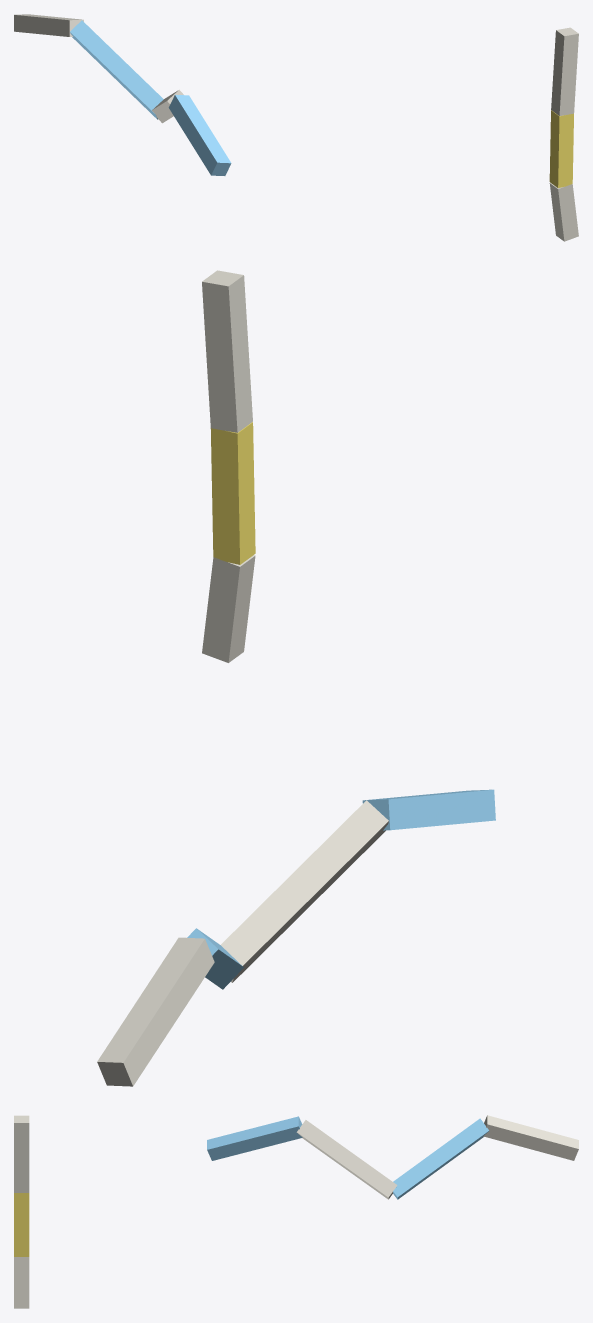
3 views of the same model, one above another, from view 1: azimuth 30°, elevation 25°; view 2: azimuth 150°, elevation 25°; view 3: azimuth 270°, elevation 25° (orthographic). The views are drawn at different scales.
Visible parts, largest first — view 1: t30_g10_p1; view 2: t30_g10_p1; view 3: t30_g10_p1.
Part boxes in pixels (box(x1,y1,x2,y2)): t30_g10_p1: box(14, 14, 578, 241); t30_g10_p1: box(97, 270, 495, 1086); t30_g10_p1: box(14, 1115, 578, 1308).
Bounding box in the file's own units: 3.2 × 2.42 × 6.57.
